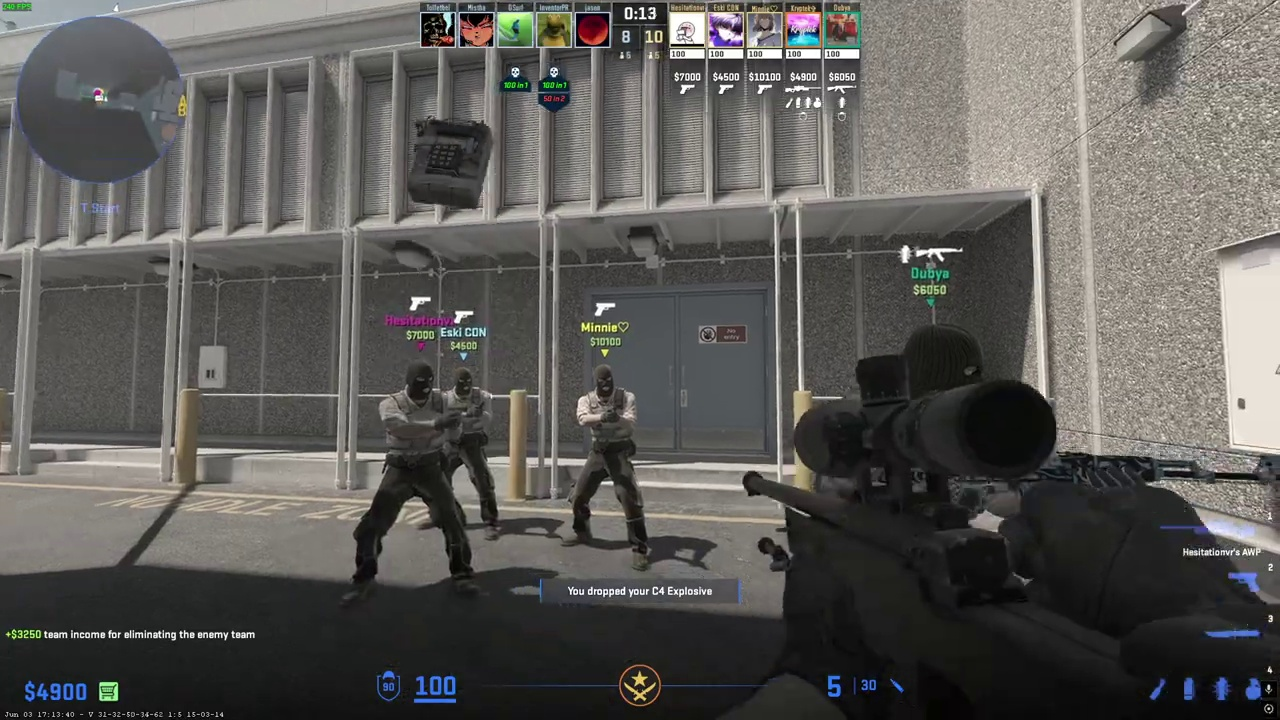Terrorist: (352, 361, 469, 607), (563, 364, 649, 570), (445, 368, 499, 539)
